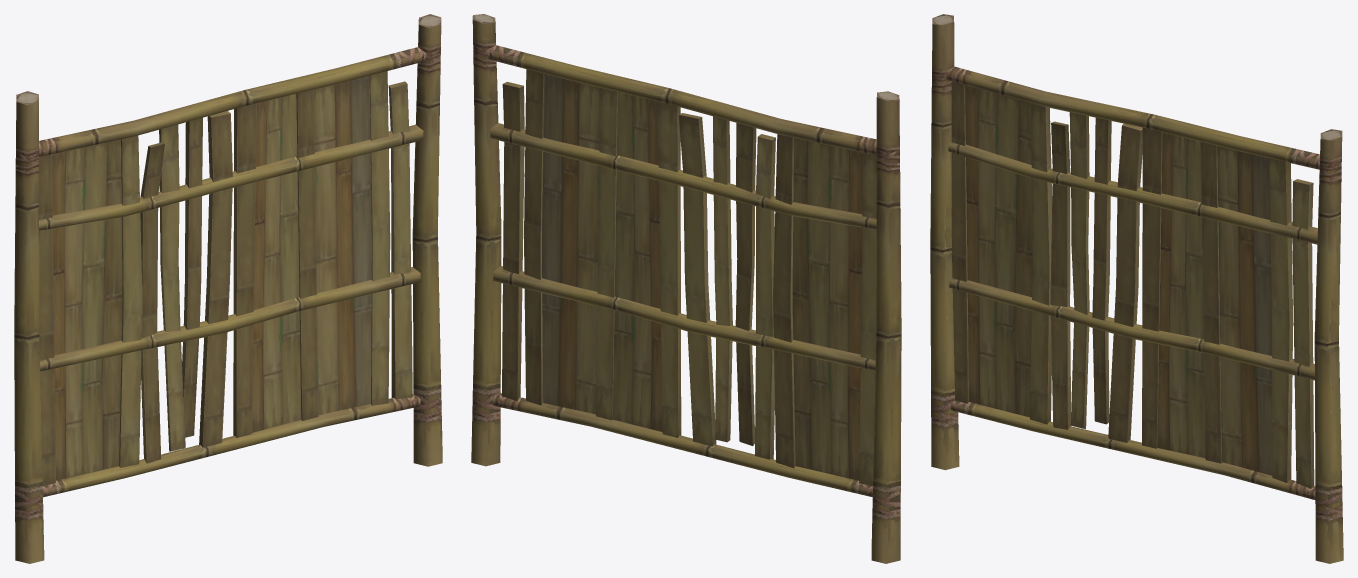
File: Homeworld_Exterior_Dq_Build_House_24_Vo.fbx
The picture shows the model from 3 angles, left to right: view 1: azimuth 30°, elevation 25°; view 2: azimuth 150°, elevation 25°; view 3: azimuth 330°, elevation 25°; orthographic projection. The views are drawn at different scales.
Visible parts, largest first — view 1: Area_Dq_Prop_Common_Hedge_03_Vo; view 2: Area_Dq_Prop_Common_Hedge_03_Vo; view 3: Area_Dq_Prop_Common_Hedge_03_Vo.
Part boxes in pixels (<box>): Area_Dq_Prop_Common_Hedge_03_Vo: <box>14,14,442,563</box>; Area_Dq_Prop_Common_Hedge_03_Vo: <box>471,14,901,563</box>; Area_Dq_Prop_Common_Hedge_03_Vo: <box>930,14,1343,563</box>.
Size of the model in its own units: 1.83 by 1.88 by 0.1067.
